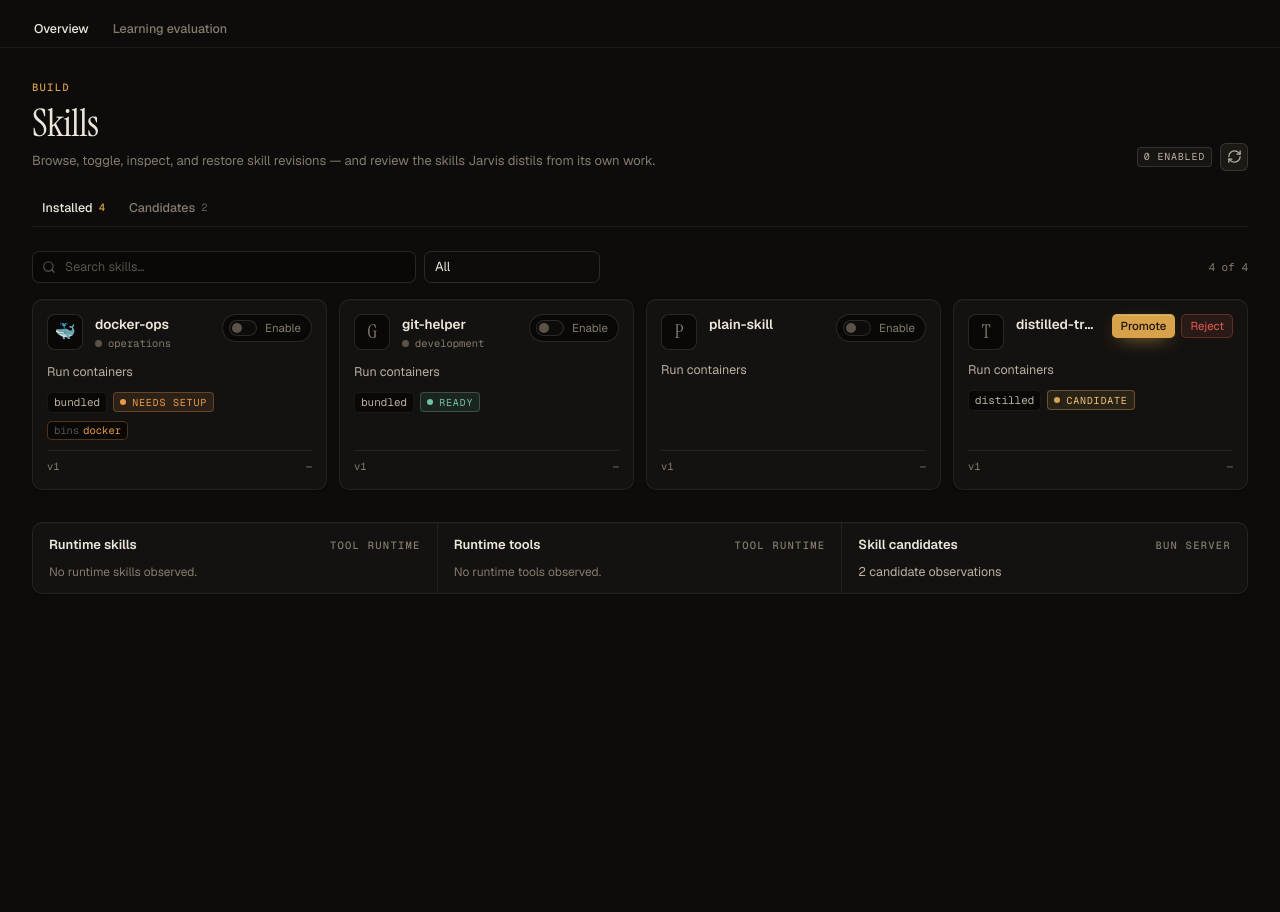
Test case: Skills Candidates tab › lists every observed candidate and guides promotion into proof review
This screenshot has width=1280, height=912.
Expected: the button with aria-label "Inspect skill: docker-ops" is shown, [95,314,169,334]
Click the tab "Candidates 2": (168, 209) [119,191,217,227]
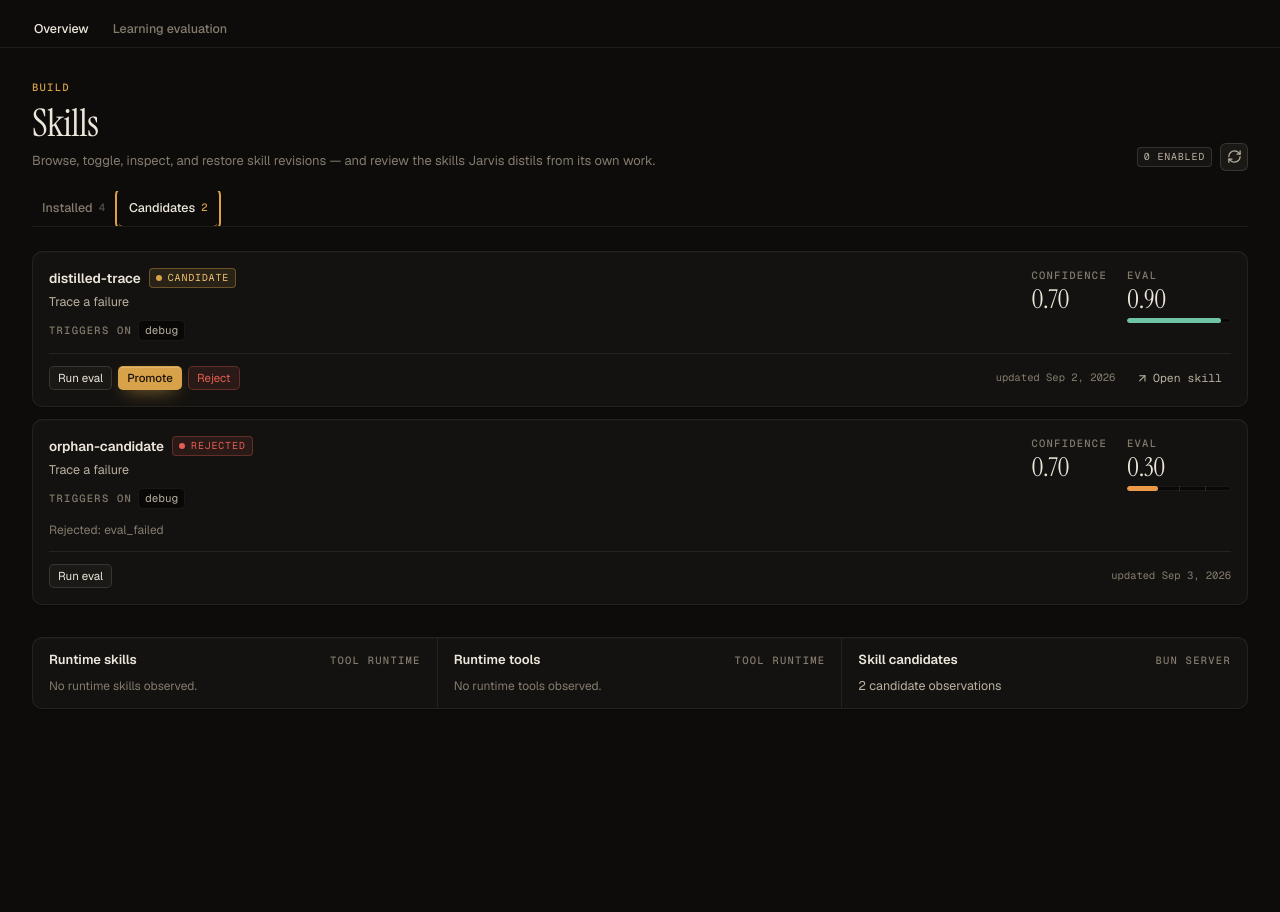
Expected: the text "0.70" next to "0.90" is shown, [1031,282,1069,316]
Expected: the element named "Eval score 90 of 100" is shown, [1127,318,1231,322]
Expected: the text "Rejected: eval_failed" is shown, [49,522,164,538]
Click the button "Promote": (150, 378) [118,366,182,390]
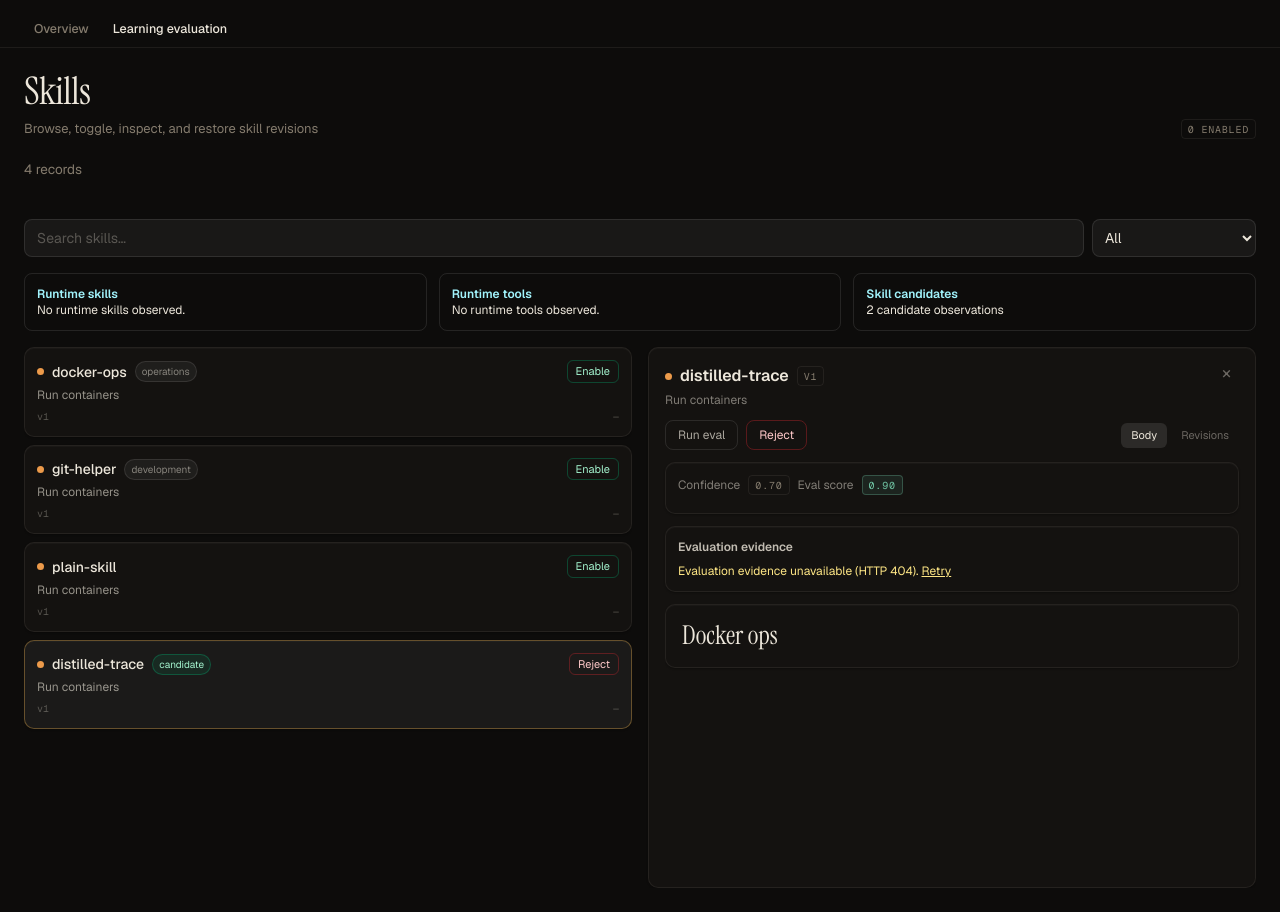
Expected: the element named "Skill details: distilled-trace" is shown, [648,347,1256,888]
